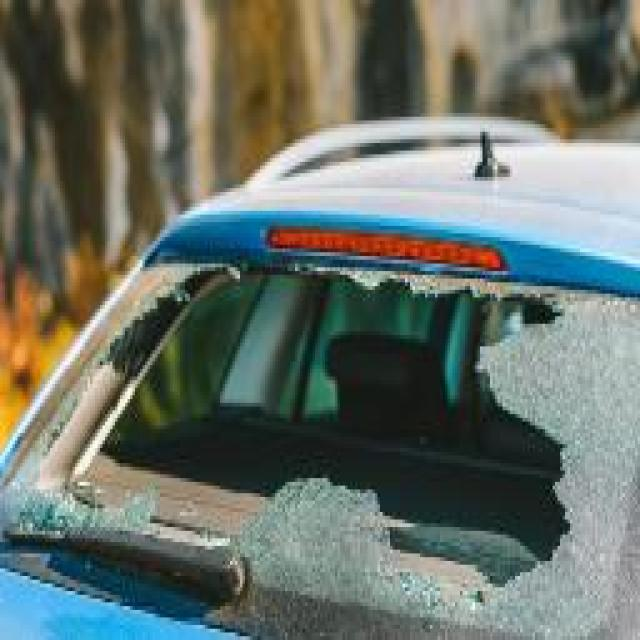Windshield: (2, 264, 632, 640)
